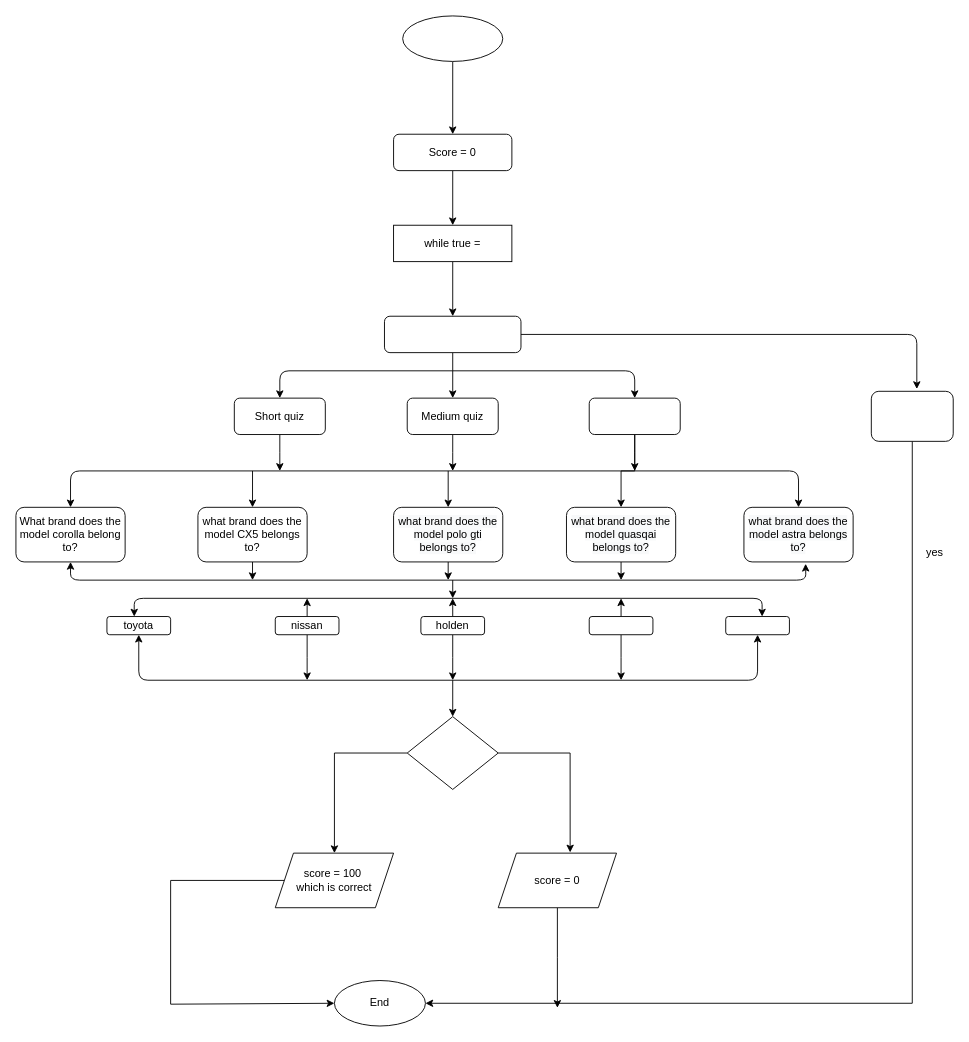
The diagram is 969 pixels wide and 1042 high, and some of its shapes have lost their labels. Each missing label, with the centre of its shape:
Long quiz: the point at 634,416
mazda: the point at 757,625
model = true?: the point at 452,752
Quit: the point at 911,415
Start: the point at 452,38
volkswagen: the point at 620,625
Welcome to the quiz: the point at 452,334
